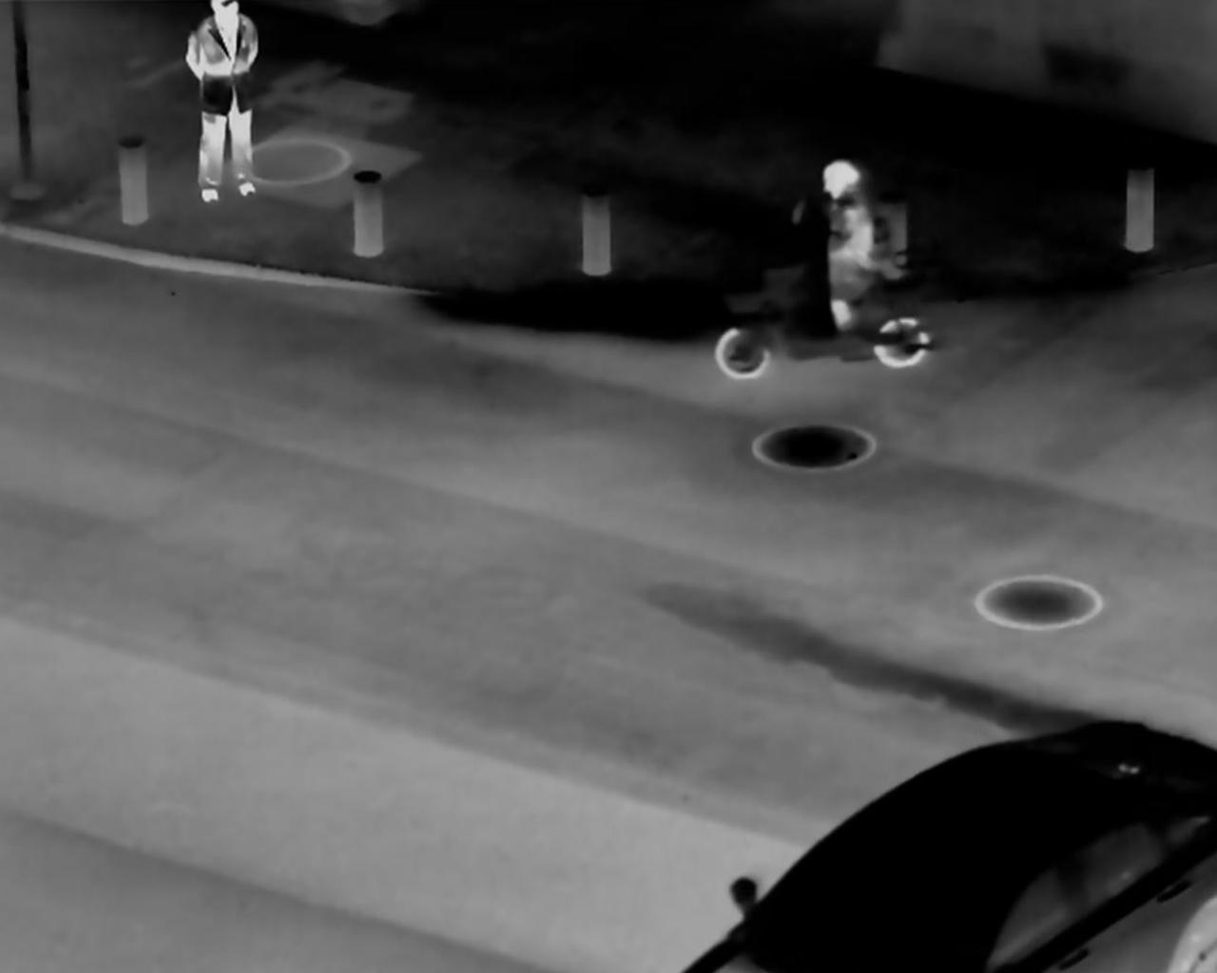person: (802, 135, 911, 337)
